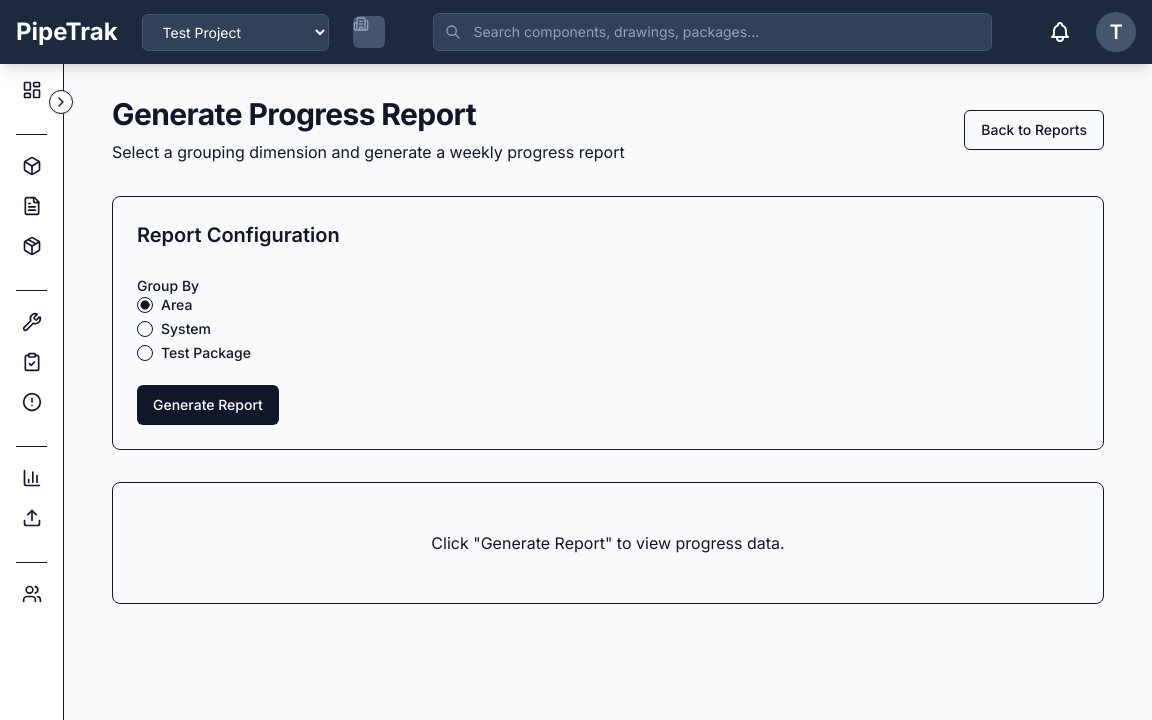
Test case: Report Generation Workflow (Integration) › handles empty project with no components
Click the button "Generate Report": [208, 405] box [137,385,279,425]
(page scrolled)
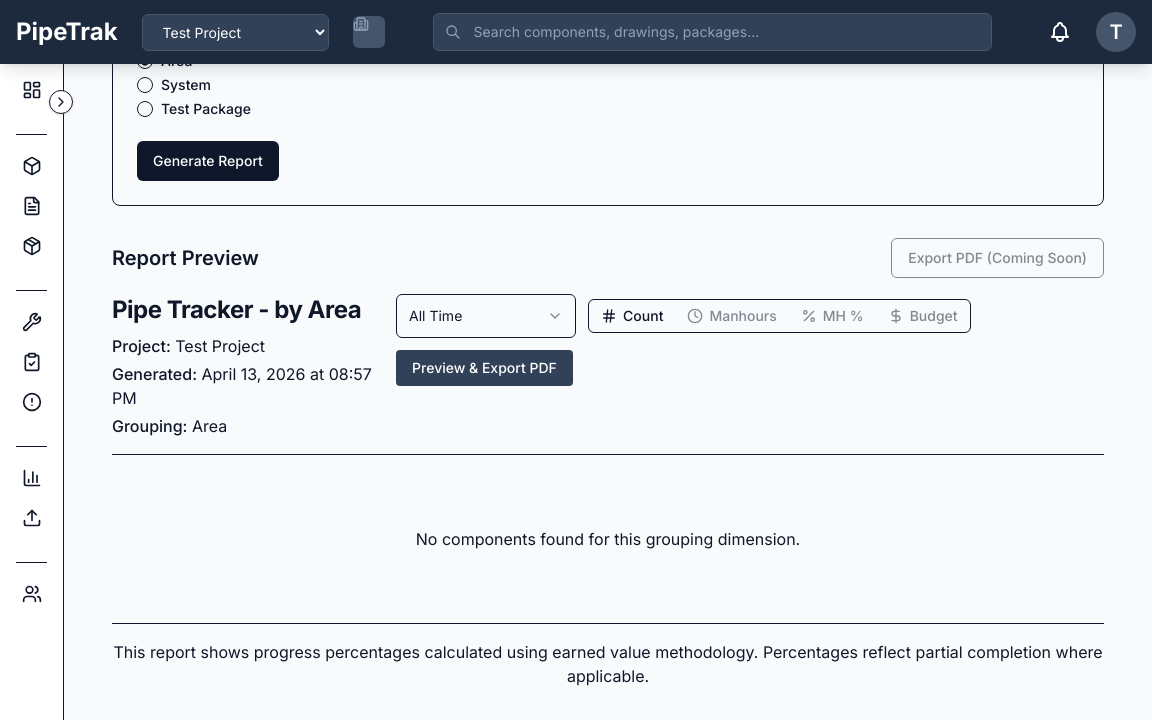
Expected: the text "No components found for this grouping dimension." is shown, [416,527,800,551]
